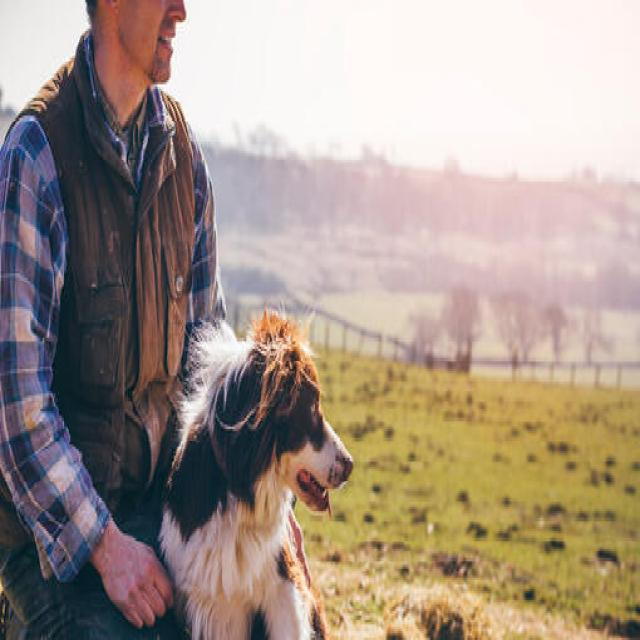BORDER_COLLIE: (150, 295, 366, 640)
